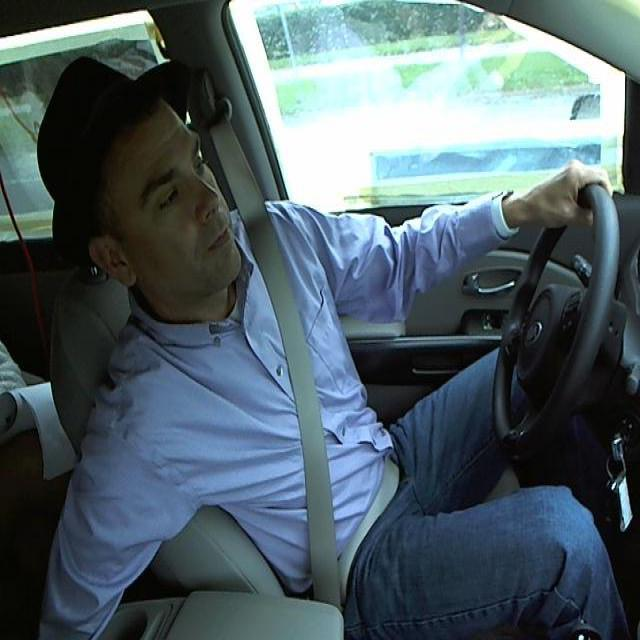seatbelt: (227, 193, 384, 610)
